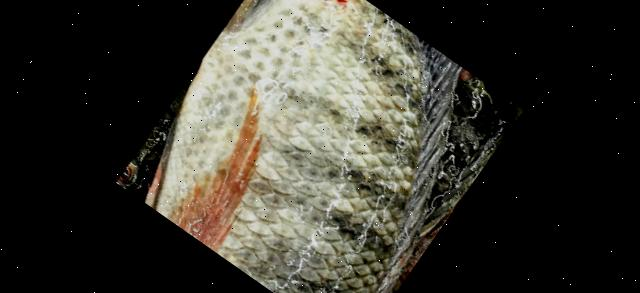Tilapia Lake Virus -TiLV-: (145, 0, 463, 293)
